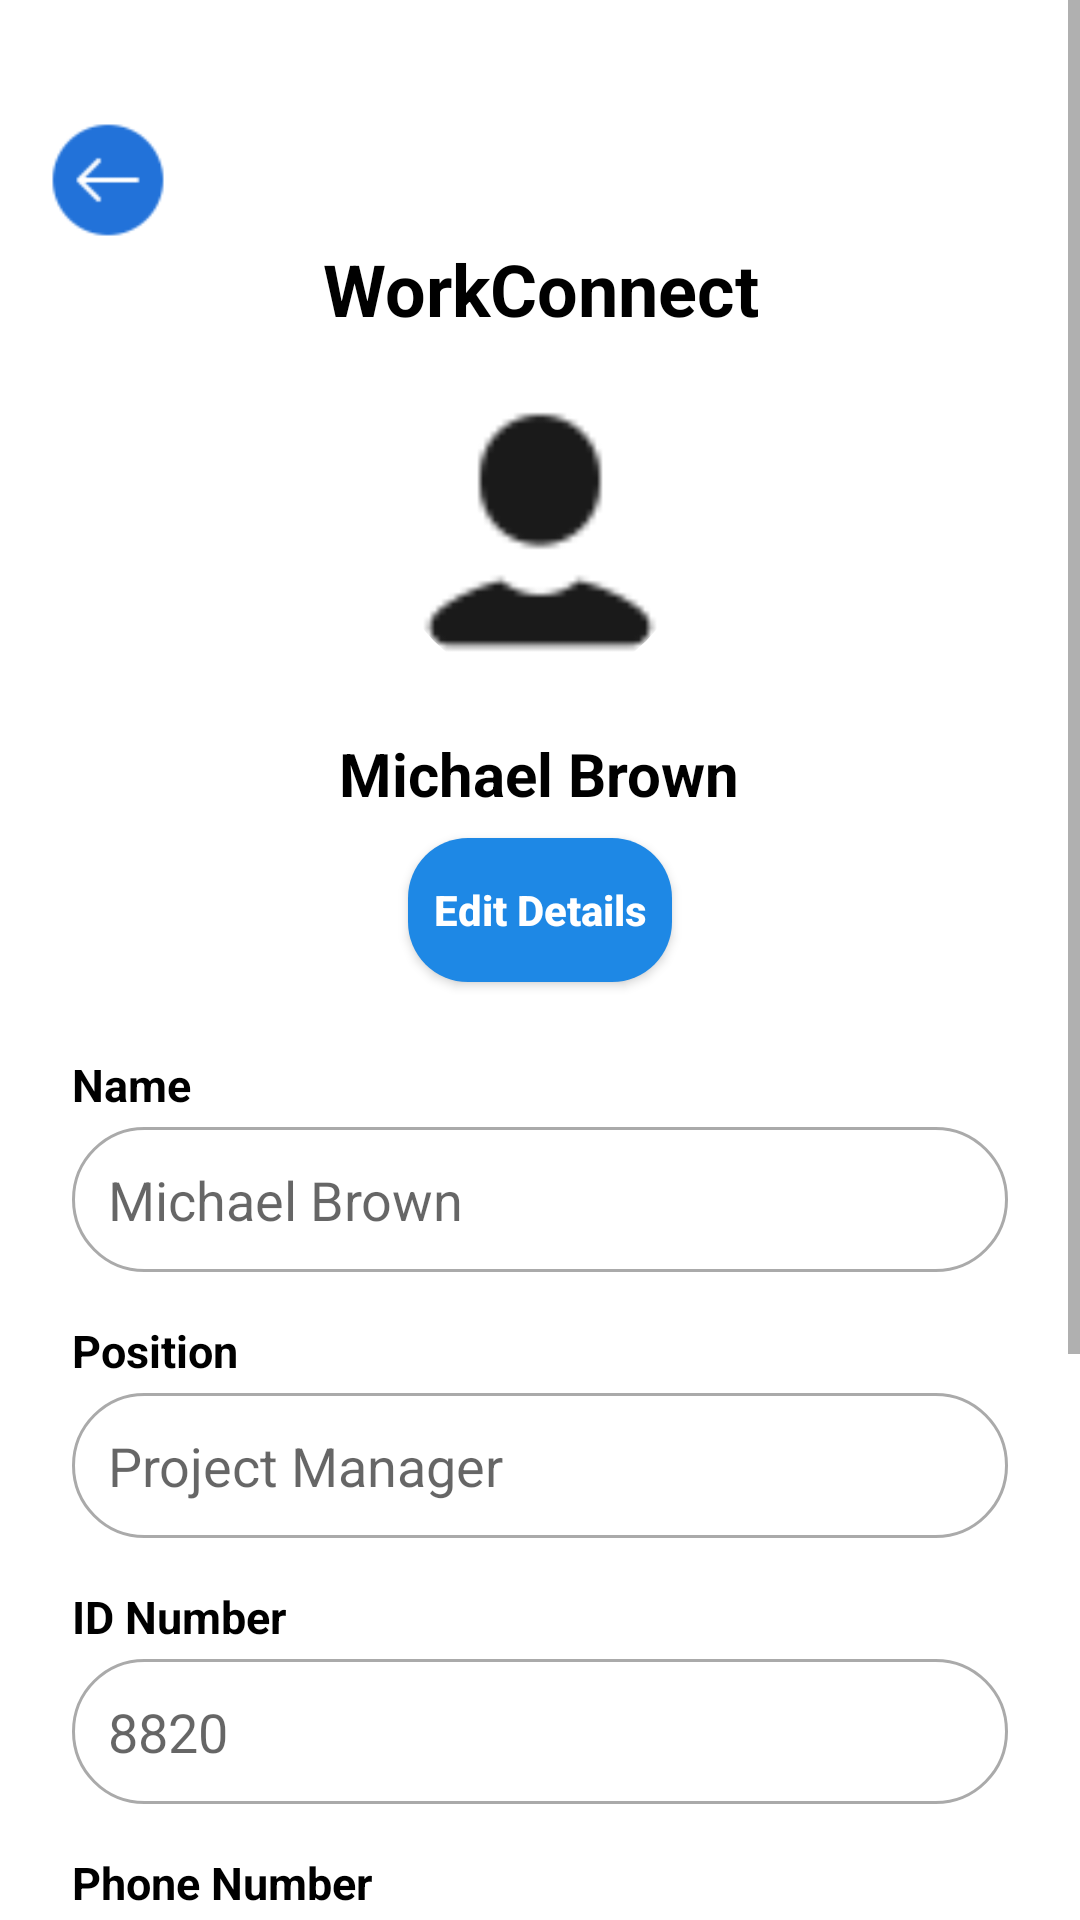

Named icons in this screenshot (1080x1920) and their bounding boxes, [left=x1, top=y1, right=x2, bottom=y2]:
Back: [left=52, top=124, right=164, bottom=236]
Profile Picture: [left=425, top=413, right=655, bottom=650]
